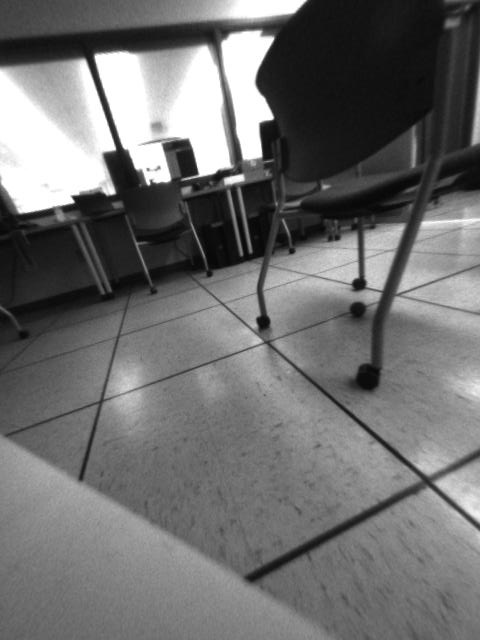dogtoy: (343, 296, 372, 322)
